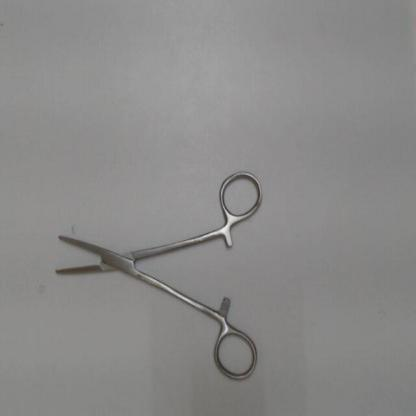Mayo Needle Holder: (45, 164, 268, 387)
